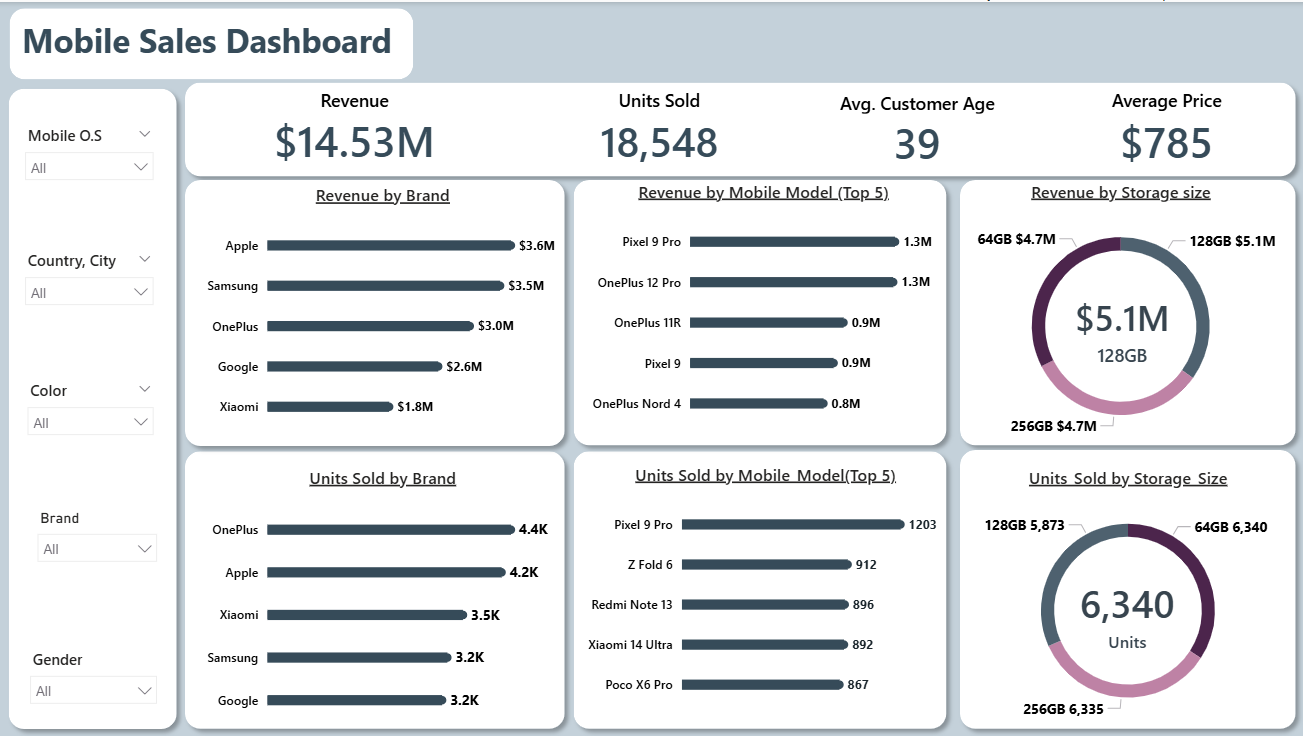

The page's visual inventory and layout, read from the dashboard file:
{"tool":"powerbi","page":{"name":"Page 1","canvas":[1280,720],"ordinal":0},"visuals":[{"type":"shape","box":[12.2,6.1,395,69.7],"z":0},{"type":"shape","box":[174.7,69.9,1104.5,109.8],"z":1000},{"type":"shape","box":[2.4,75.8,182.2,644.4],"z":2000},{"type":"shape","box":[932.6,165.3,346.2,277.5],"z":3000},{"type":"shape","box":[932.6,429.5,346.2,290.8],"z":4000},{"type":"shape","box":[555,430.7,382.4,289.5],"z":5000},{"type":"shape","box":[555,165.3,382.4,277.5],"z":6000},{"type":"shape","box":[174.7,430.6,389.4,289.5],"z":7000},{"type":"shape","box":[174.7,164.7,389.4,278.3],"z":8000},{"type":"barChart","title":"Units Sold by Brand","fields":{"Category":["Fact_Sales.Brand"],"Y":["Fact_Sales._Units_sold"]},"box":[184.7,443.1,370.7,277.1],"z":9000},{"type":"slicer","fields":{"Values":["Fact_Sales.Country","Fact_Sales.City"]},"box":[16.9,237.7,146,83.2],"z":10000},{"type":"donutChart","title":"Revenue by Storage size","fields":{"Category":["Fact_Sales.Storage_Size"],"Y":["Sum(Fact_Sales.Total_Revenue)"]},"box":[932.3,162.2,329.5,280.8],"z":11000},{"type":"slicer","fields":{"Values":["Fact_Sales.Operating_System"]},"box":[16.9,114.6,146,94.1],"z":12000},{"type":"slicer","fields":{"Values":["Fact_Sales.Color"]},"box":[19.3,364.3,143.6,78.4],"z":13000},{"type":"barChart","title":"Revenue by Brand","fields":{"Category":["Fact_Sales.Brand"],"Y":["Sum(Fact_Sales.Total_Revenue)"]},"box":[184.7,166,370.7,264.6],"z":14000},{"type":"barChart","title":"Revenue  by Mobile Model (Top 5)","fields":{"Category":["Fact_Sales.Mobile_Model"],"Y":["Fact_Sales._Revenue"]},"box":[572.9,162.2,349.5,267.1],"z":15000},{"type":"barChart","title":"Units Sold by Mobile_Model(Top 5)","fields":{"Category":["Fact_Sales.Mobile_Model"],"Y":["Fact_Sales._Units_sold"]},"box":[572.9,443.1,359.4,262.1],"z":16000},{"type":"card","title":"Revenue","fields":{"Values":["Sum(Fact_Sales.Total_Revenue)"]},"box":[194.7,84.9,310.8,79.9],"z":17000},{"type":"donutChart","title":"Units_Sold by Storage_Size","fields":{"Category":["Fact_Sales.Storage_Size"],"Y":["Sum(Fact_Sales.Units_Sold)"]},"box":[945.2,442.7,316.7,277.6],"z":18000},{"type":"slicer","fields":{"Values":["Fact_Sales.Customer_Gender"]},"box":[21.7,627.3,144.8,77.2],"z":19000},{"type":"card","title":"Avg. Customer Age","fields":{"Values":["Avg(Fact_Sales.Customer_Age)"]},"box":[791.3,87.4,218.4,77.4],"z":20000},{"type":"card","title":"Average Price","fields":{"Values":["Avg(Fact_Sales.Price)"]},"box":[1009.7,84.9,268.3,81.1],"z":21000},{"type":"textbox","box":[19.6,11,376.6,59.9],"z":22000},{"type":"slicer","fields":{"Values":["Fact_Sales.Brand"]},"box":[29,491,137.5,101.3],"z":23000},{"type":"card","title":"Units Sold","fields":{"Values":["Sum(Fact_Sales.Units_Sold)"]},"box":[505.5,84.9,285.8,81.1],"z":24000},{"type":"card","fields":{"Values":["Fact_Sales.Storage Size Revenue for 128GB"]},"box":[1043.4,279.6,116.1,79.9],"z":25000},{"type":"card","fields":{"Values":["Fact_Sales.Storage Size Units Sold for 64GB"]},"box":[1048.4,559.1,116.1,79.9],"z":25001}]}

Visuals, with their boxes in screenshot pixels (x1, y1, x2, y2), scaled from the page's 1280x720 canvas onto the 1303x736 screenshot:
shape: bbox=[12, 6, 415, 77]
shape: bbox=[178, 71, 1302, 184]
shape: bbox=[2, 77, 188, 735]
shape: bbox=[949, 169, 1302, 453]
shape: bbox=[949, 439, 1302, 735]
shape: bbox=[565, 440, 954, 735]
shape: bbox=[565, 169, 954, 453]
shape: bbox=[178, 440, 574, 735]
shape: bbox=[178, 168, 574, 453]
"Units Sold by Brand" barChart: bbox=[188, 453, 565, 735]
slicer - Fact_Sales.Country x Fact_Sales.City: bbox=[17, 243, 166, 328]
"Revenue by Storage size" donutChart: bbox=[949, 166, 1284, 453]
slicer - Fact_Sales.Operating_System: bbox=[17, 117, 166, 213]
slicer - Fact_Sales.Color: bbox=[20, 372, 166, 453]
"Revenue by Brand" barChart: bbox=[188, 170, 565, 440]
"Revenue  by Mobile Model (Top 5)" barChart: bbox=[583, 166, 939, 439]
"Units Sold by Mobile_Model(Top 5)" barChart: bbox=[583, 453, 949, 721]
"Revenue" card: bbox=[198, 87, 515, 168]
"Units_Sold by Storage_Size" donutChart: bbox=[962, 453, 1285, 735]
slicer - Fact_Sales.Customer_Gender: bbox=[22, 641, 169, 720]
"Avg. Customer Age" card: bbox=[806, 89, 1028, 168]
"Average Price" card: bbox=[1028, 87, 1301, 170]
textbox: bbox=[20, 11, 403, 72]
slicer - Fact_Sales.Brand: bbox=[30, 502, 169, 605]
"Units Sold" card: bbox=[515, 87, 806, 170]
card - Fact_Sales.Storage Size Revenue for 128GB: bbox=[1062, 286, 1180, 367]
card - Fact_Sales.Storage Size Units Sold for 64GB: bbox=[1067, 572, 1185, 653]
